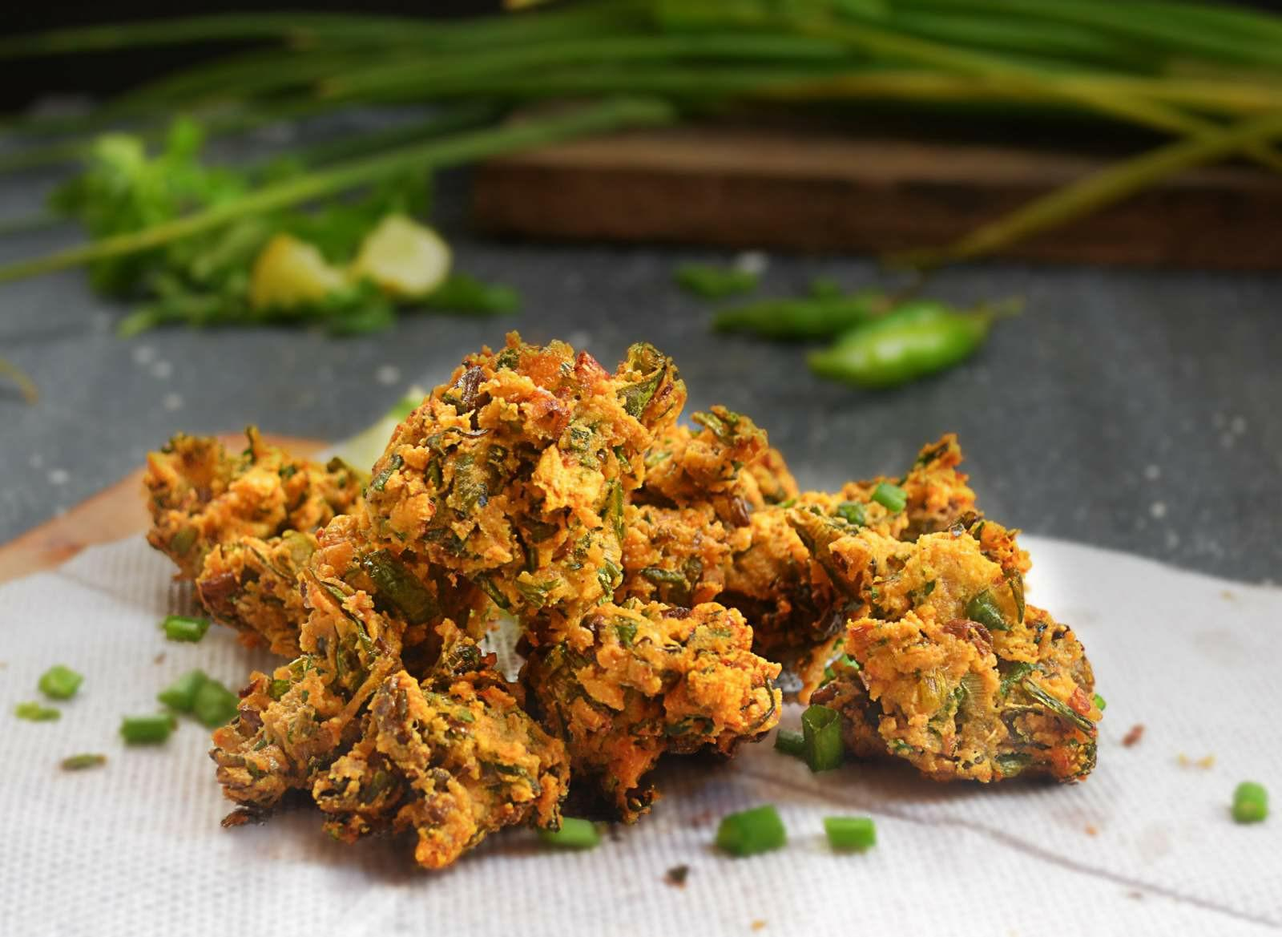OnionPakoda: (148, 318, 1107, 868)
